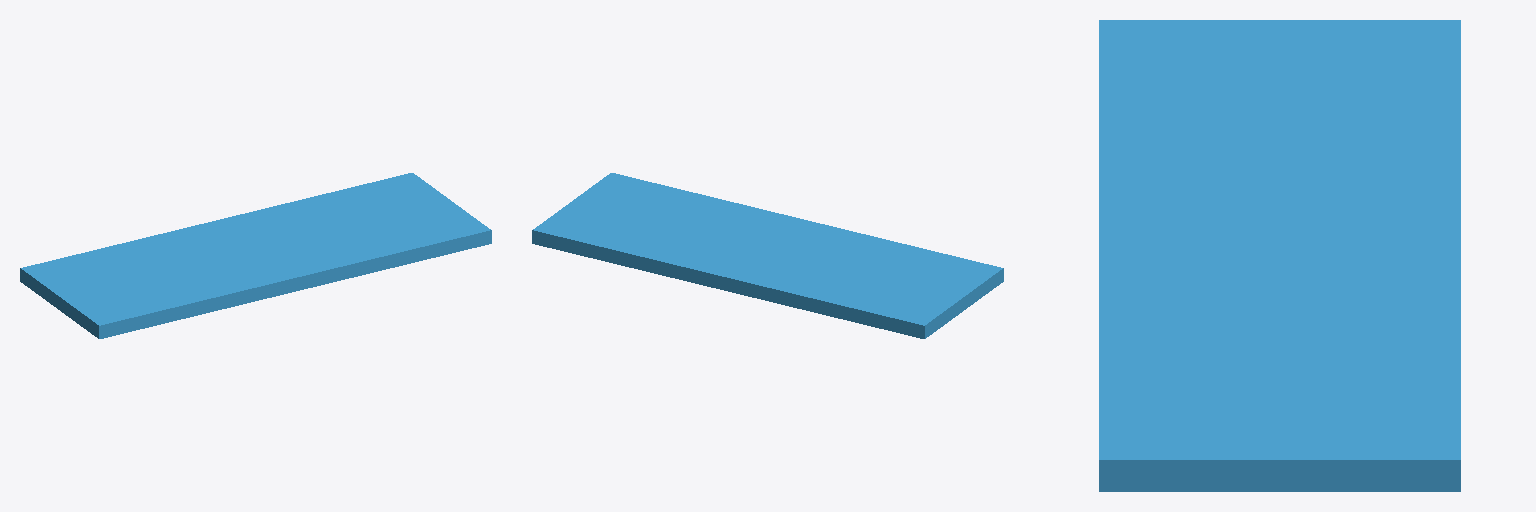
URDF robot description (cylinder_26):
    
    <robot name="cylinder_26">
        <link name="cylinder_26">    
            <fem>
                <origin rpy="0.0 0.0 0.0" xyz="0 0 0" />
                <density value="100" />
                <youngs value="1022"/>
                <poissons value="0.3" />
                <damping value="0.0" />
                <attachDistance value="0.01" />
                <tetmesh filename="[local-path]/sim_data/Custom/Custom_mesh/multi_cylinder_1kPa/cylinder_26.tet" />
                <scale value="0.5"/>
            </fem>
        </link>

        <link name="fix_frame">
            <visual>
                <origin xyz="0.0 0.0 10.071548894298115"/>
                <geometry>
                    <box size="0.15 0.052211451624978505 0.005"/>
                </geometry>
            </visual>
            <collision>
                <origin xyz="0.0 0.0 0.07154889429811453"/>
                <geometry>
                    <box size="0.15 0.052211451624978505 0.005"/>
                </geometry>
            </collision>
            <inertial>
                <mass value="500000"/>
                <inertia ixx="0.05" ixy="0.0" ixz="0.0" iyy="0.05" iyz="0.0" izz="0.05"/>
            </inertial>
        </link>
        
        <joint name = "attach" type = "fixed">
            <origin xyz = "0.0 0.0 0.0" rpy = "0 0 0"/>
            <parent link ="cylinder_26"/>
            <child link = "fix_frame"/>
        </joint>  




    </robot>
    

--- What the picture shows (computed from the rendered views, not written in the file) ---
The picture shows the robot from 3 angles, left to right: view 1: azimuth 30°, elevation 25°; view 2: azimuth 150°, elevation 25°; view 3: azimuth 270°, elevation 25°; orthographic projection.
Model cylinder_26 with 2 links and 1 joints (1 fixed), rooted at cylinder_26, posed every joint at zero.
Visible links, largest first — view 1: fix_frame; view 2: fix_frame; view 3: fix_frame.
Link boxes in pixels (bbox=[...]): fix_frame: bbox=[20, 173, 491, 338]; fix_frame: bbox=[532, 173, 1003, 338]; fix_frame: bbox=[1099, 20, 1460, 491].
Bounding box of the posed robot: 0.15 × 0.0522 × 0.005 m (x, y, z).
Geometry: primitives only (box / cylinder / sphere), no mesh files.
